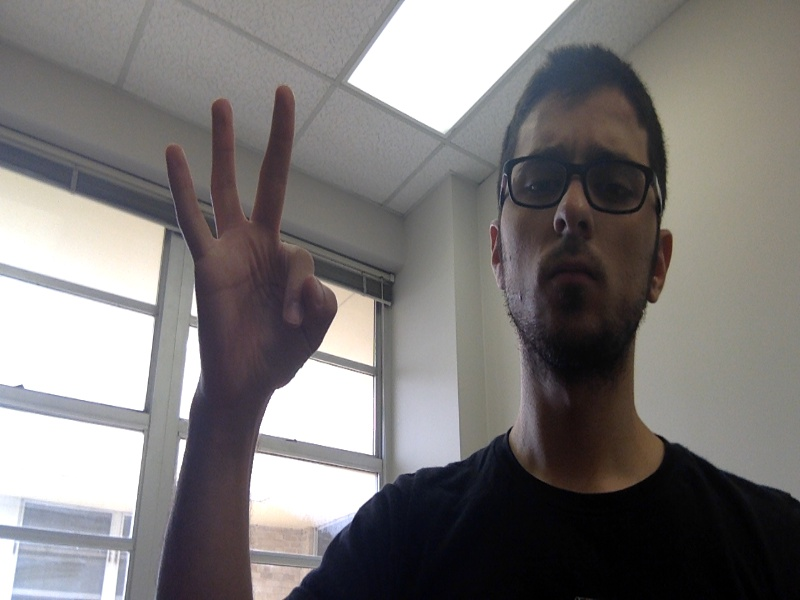3-hand: (163, 85, 338, 394)
